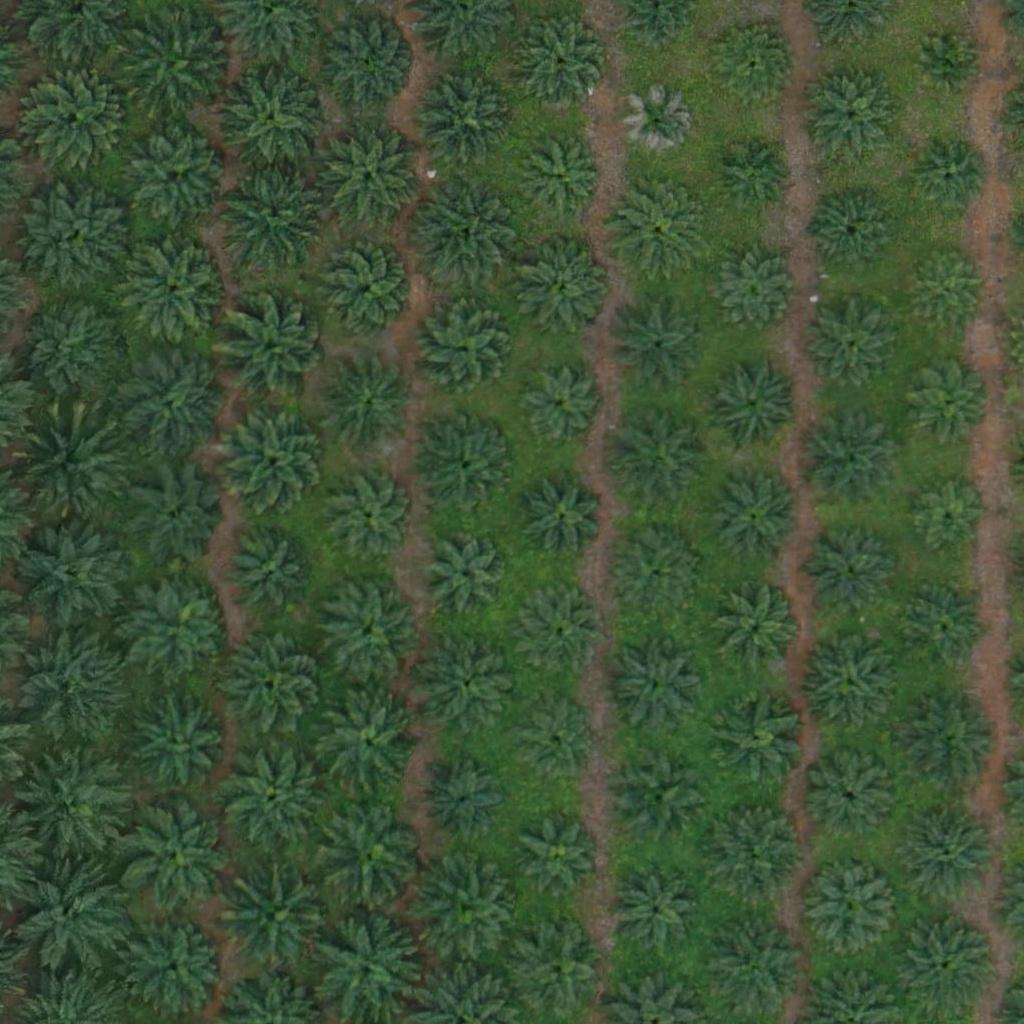Kelapa_Sawit: (122, 5, 235, 119), (214, 62, 327, 176), (222, 161, 335, 275), (216, 293, 329, 406), (218, 403, 331, 516), (17, 516, 130, 629), (13, 626, 126, 739), (18, 746, 131, 859), (15, 860, 128, 973), (409, 177, 521, 291), (24, 180, 136, 293), (15, 296, 127, 409), (14, 411, 126, 524), (122, 800, 234, 913), (217, 739, 329, 852), (224, 866, 336, 979), (27, 67, 127, 168), (129, 124, 229, 225), (415, 68, 515, 169), (613, 177, 713, 278), (796, 411, 896, 512), (701, 242, 801, 343), (701, 352, 801, 453), (607, 292, 707, 393), (420, 633, 520, 734), (318, 352, 418, 453), (319, 580, 419, 681), (319, 697, 419, 798), (223, 634, 323, 735), (122, 239, 222, 340), (119, 351, 219, 452), (128, 467, 228, 568), (129, 577, 229, 678), (126, 691, 226, 792), (128, 917, 228, 1018), (610, 745, 710, 846), (705, 798, 805, 899), (710, 919, 810, 1020), (801, 858, 901, 959), (903, 803, 1003, 904), (896, 914, 996, 1015), (319, 12, 419, 112), (321, 129, 421, 229), (899, 692, 999, 792), (799, 631, 899, 731), (705, 688, 805, 788), (610, 408, 710, 508), (605, 635, 705, 735), (515, 236, 615, 336), (414, 298, 514, 398), (418, 414, 518, 514), (318, 239, 418, 339), (320, 801, 420, 901), (418, 861, 518, 961), (506, 919, 606, 1019), (709, 22, 797, 111), (811, 189, 899, 278), (807, 754, 895, 843), (710, 129, 798, 217), (904, 584, 992, 672), (806, 303, 894, 391), (805, 528, 893, 616), (518, 365, 606, 453), (227, 529, 315, 617), (612, 868, 700, 956), (902, 356, 989, 444), (519, 22, 606, 110), (808, 75, 895, 163), (710, 476, 797, 564), (713, 587, 800, 675), (613, 536, 700, 624), (425, 528, 512, 616), (327, 472, 414, 560), (525, 139, 600, 215), (527, 482, 602, 558), (525, 593, 600, 669), (428, 763, 503, 839), (522, 816, 597, 892), (915, 140, 990, 215), (913, 482, 988, 557), (621, 86, 696, 161), (907, 251, 982, 326), (517, 708, 592, 783), (917, 35, 980, 98)
